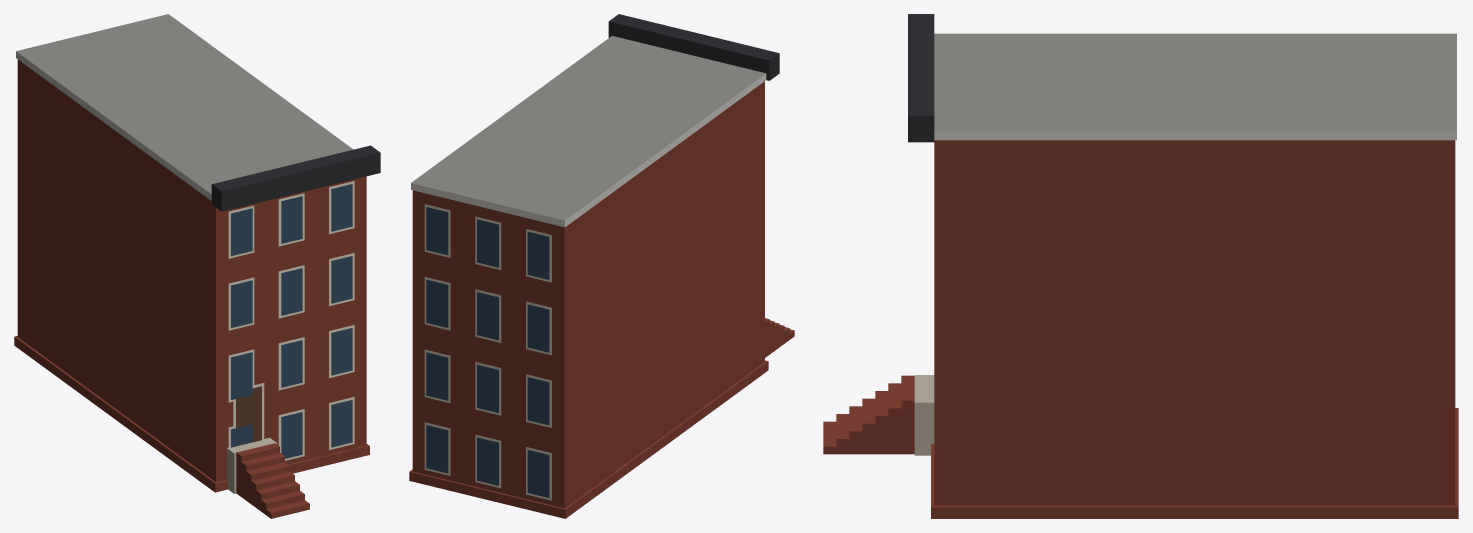
File: brownstone.glb
The picture shows the model from 3 angles, left to right: view 1: azimuth 30°, elevation 25°; view 2: azimuth 150°, elevation 25°; view 3: azimuth 270°, elevation 25°; orthographic projection. The views are drawn at different scales.
Parts seen in each view (by area): view 1: brownstone; view 2: brownstone; view 3: brownstone.
Part boxes in pixels (x1=…): brownstone: x1=14, y1=14, x2=380, y2=518; brownstone: x1=409, y1=14, x2=794, y2=518; brownstone: x1=823, y1=14, x2=1458, y2=518.
Bounding box in the file's own units: 7.4 × 13.7 × 19.51.
Materials: 1 (1 with a texture image).
